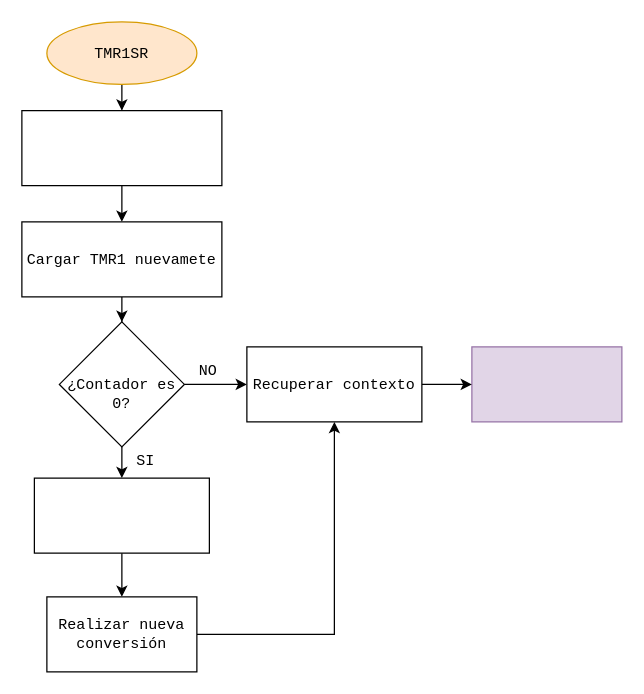
Some shapes in this 644 by 694 pixel diagram are drawn without their labels. The shapes that lost their labels are listed below. From the top down, each one's box as (x1, y1, x2, y2) in pixels, then its label:
(21, 109, 222, 186): Bajar bandera TMR1IF
(471, 346, 622, 422): RETFIE
(33, 477, 209, 553): Enviar temperatura a la PC
